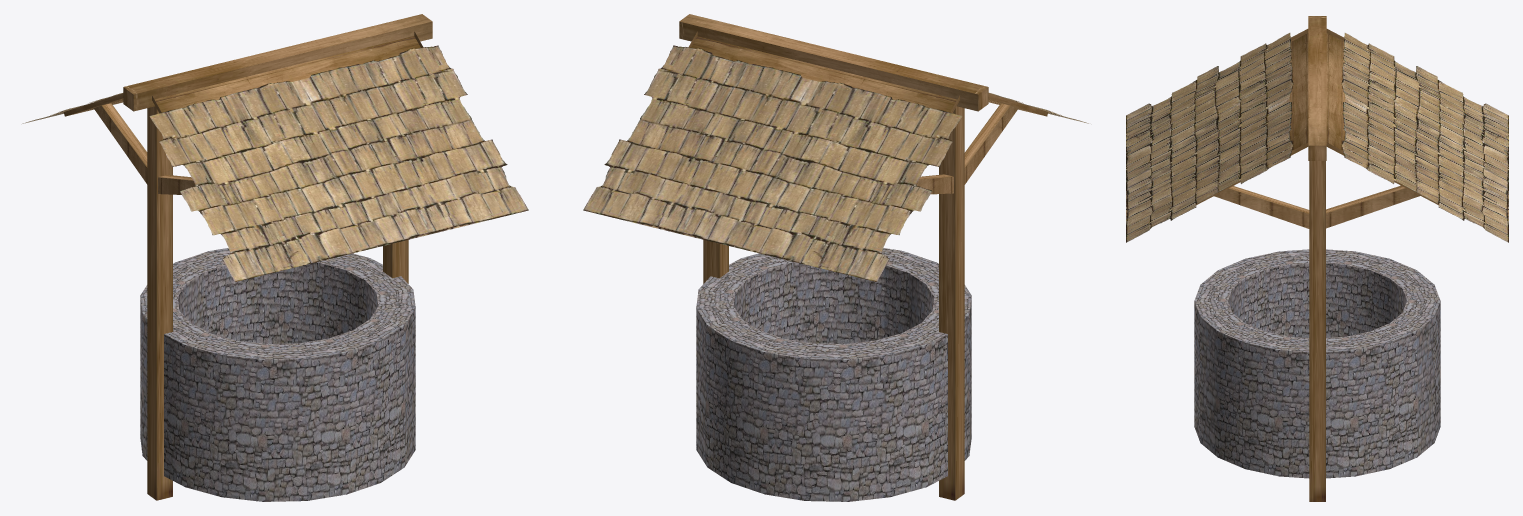
The model's file is Well.FBX.
3 renders of one model, left to right at view 1: azimuth 30°, elevation 25°; view 2: azimuth 150°, elevation 25°; view 3: azimuth 270°, elevation 25°, orthographic. The views are drawn at different scales.
Parts seen in each view (by area): view 1: Box002, Object001, Box003, Box009, Box010, Box005, Box004; view 2: Box002, Object, Box003, Box009, Box007, Box005, Box004; view 3: Box002, Object001, Object, Box004, Box006, Box009, Box010, Box007.
Boxes of the visible parts, x1=… form: Box002: x1=140, y1=248, x2=415, y2=501; Object001: x1=149, y1=45, x2=528, y2=281; Box003: x1=147, y1=106, x2=172, y2=500; Box009: x1=123, y1=14, x2=432, y2=111; Box010: x1=152, y1=31, x2=423, y2=113; Box005: x1=93, y1=103, x2=194, y2=194; Box004: x1=383, y1=240, x2=408, y2=283; Box002: x1=696, y1=248, x2=971, y2=501; Object: x1=583, y1=45, x2=962, y2=281; Box003: x1=939, y1=106, x2=964, y2=500; Box009: x1=679, y1=14, x2=988, y2=111; Box007: x1=688, y1=31, x2=959, y2=113; Box005: x1=917, y1=103, x2=1018, y2=194; Box004: x1=703, y1=240, x2=728, y2=283; Box002: x1=1194, y1=249, x2=1440, y2=478; Object001: x1=1126, y1=33, x2=1293, y2=242; Object: x1=1341, y1=33, x2=1508, y2=242; Box004: x1=1309, y1=161, x2=1325, y2=501; Box006: x1=1214, y1=185, x2=1420, y2=228; Box009: x1=1308, y1=16, x2=1326, y2=160; Box010: x1=1196, y1=29, x2=1308, y2=204; Box007: x1=1326, y1=29, x2=1438, y2=204.
Size of the model in its own units: 139 by 175 by 166.
Materials: 9 (9 with a texture image).
